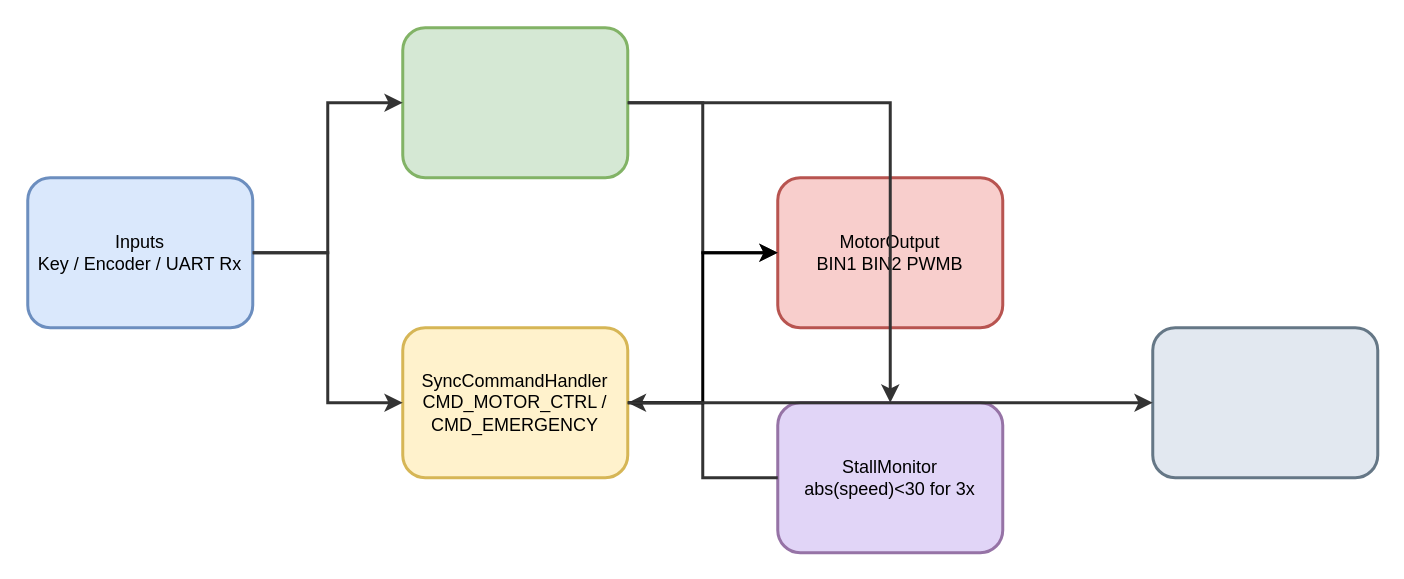
Image size: 1404x579. Some labels were removed from this diagram. The shapes that lost their labels are listed below. From the top down, each one's centre as x and y in pixels, then its label:
At point 514,102: "StateMachine 4-state cycle".
At point 1264,402: "UART Tx Emergency/Control Packet".
